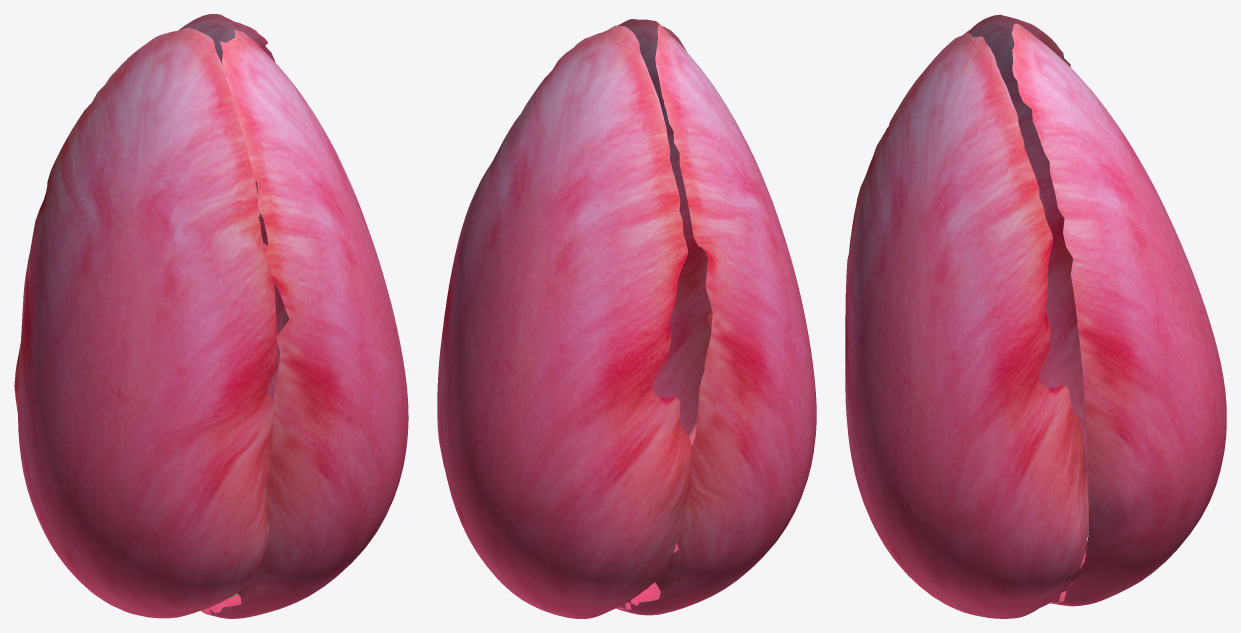
The picture shows the model from 3 angles, left to right: view 1: azimuth 30°, elevation 25°; view 2: azimuth 150°, elevation 25°; view 3: azimuth 270°, elevation 25°; orthographic projection. The views are drawn at different scales.
Visible parts, largest first — view 1: 172fa50b; view 2: 172fa50b; view 3: 172fa50b.
Boxes of the visible parts, x1,y1,x2,y2 form: 172fa50b: [14, 14, 408, 618]; 172fa50b: [437, 19, 816, 618]; 172fa50b: [845, 14, 1226, 618].
Bounding box in the file's own units: 0.0521 × 0.0852 × 0.0512.
2 materials, 2 textured.
